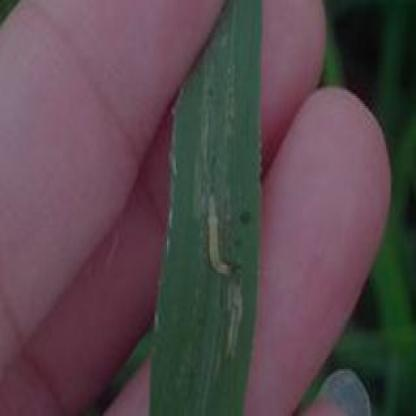leaf-folder: (201, 195, 252, 301)
